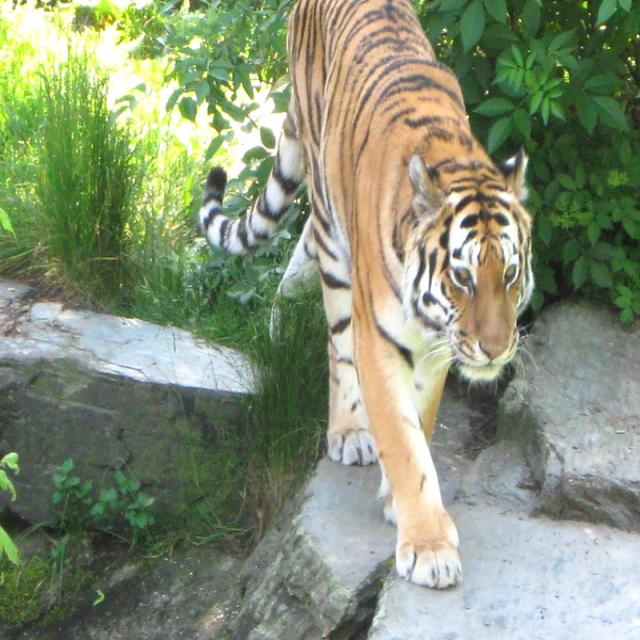Tiger: (202, 0, 538, 590)
